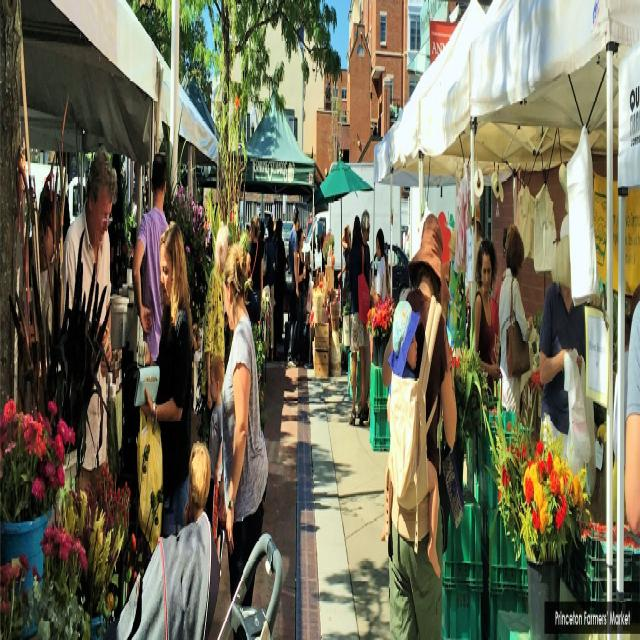body: (381, 212, 459, 640), (218, 238, 270, 640), (62, 144, 118, 493), (138, 218, 196, 540), (380, 297, 442, 583), (26, 180, 66, 409), (539, 278, 587, 462), (131, 149, 171, 363), (498, 221, 534, 437), (199, 223, 231, 449), (242, 208, 326, 288), (180, 434, 212, 638), (473, 234, 504, 398), (348, 212, 370, 428), (206, 352, 226, 582), (627, 290, 640, 636), (358, 209, 374, 422), (261, 214, 277, 363), (286, 203, 300, 368), (244, 213, 264, 324), (271, 215, 287, 351), (294, 226, 306, 369), (371, 225, 391, 306), (336, 223, 352, 315), (488, 265, 502, 357)
